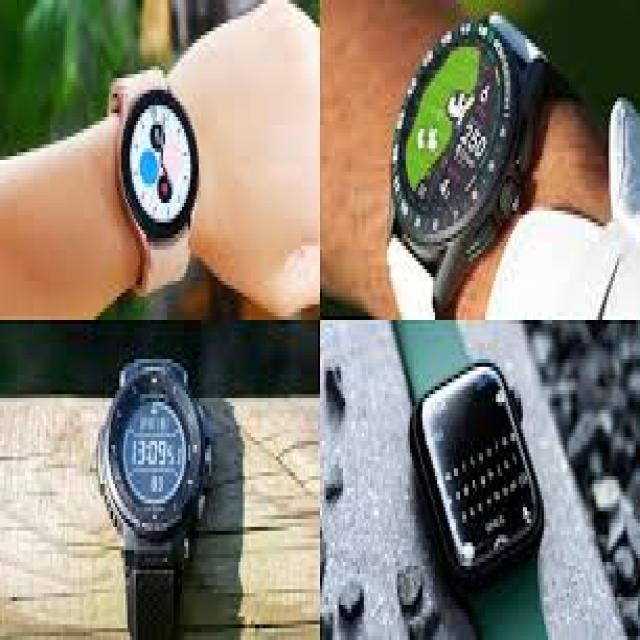objects: (389, 16, 559, 321), (393, 320, 546, 636), (98, 359, 207, 636), (106, 63, 198, 297)
